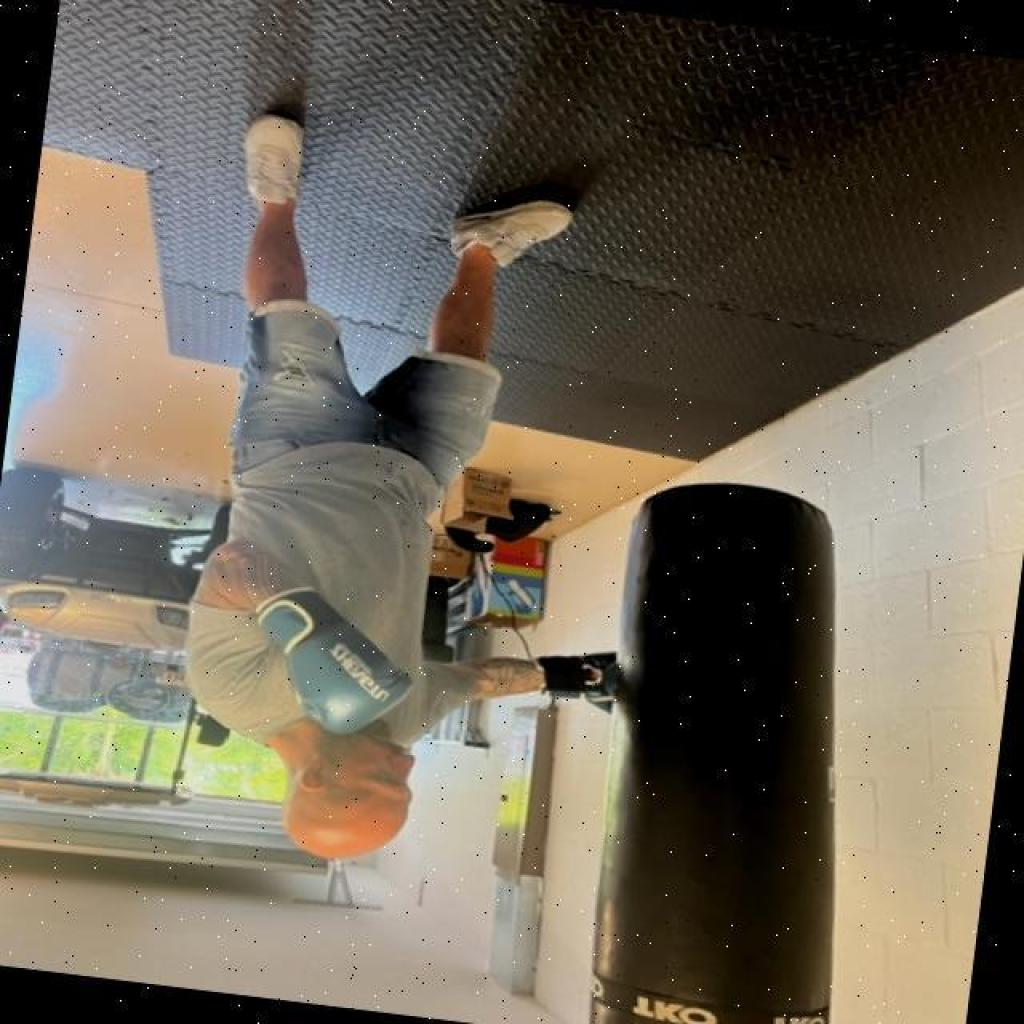hook: (180, 536, 674, 910)
